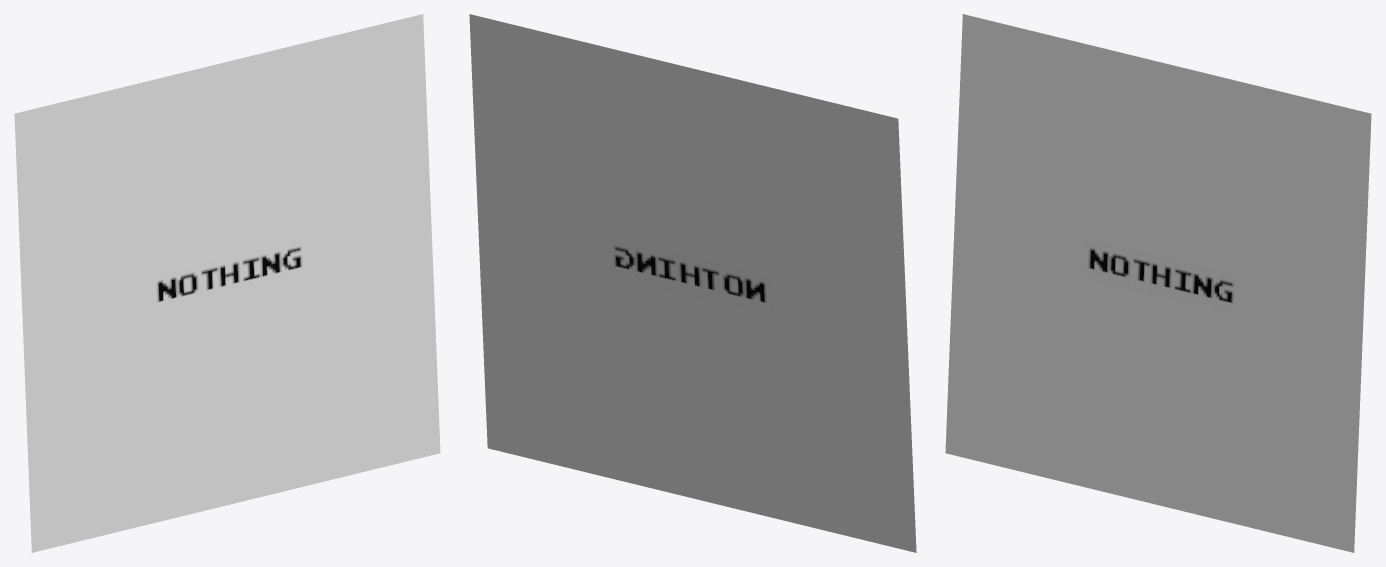
3 renders of one model, left to right at view 1: azimuth 30°, elevation 25°; view 2: azimuth 150°, elevation 25°; view 3: azimuth 330°, elevation 25°, orthographic. The views are drawn at different scales.
Visible parts, largest first — view 1: Grid; view 2: Grid; view 3: Grid.
Part boxes in pixels (box(x1,y1,x2,y2)): Grid: box(14, 14, 440, 552); Grid: box(469, 14, 916, 552); Grid: box(945, 14, 1371, 552).
Bounding box in the file's own units: 2 × 1.99 × 0.1471.
1 material, 1 textured.
